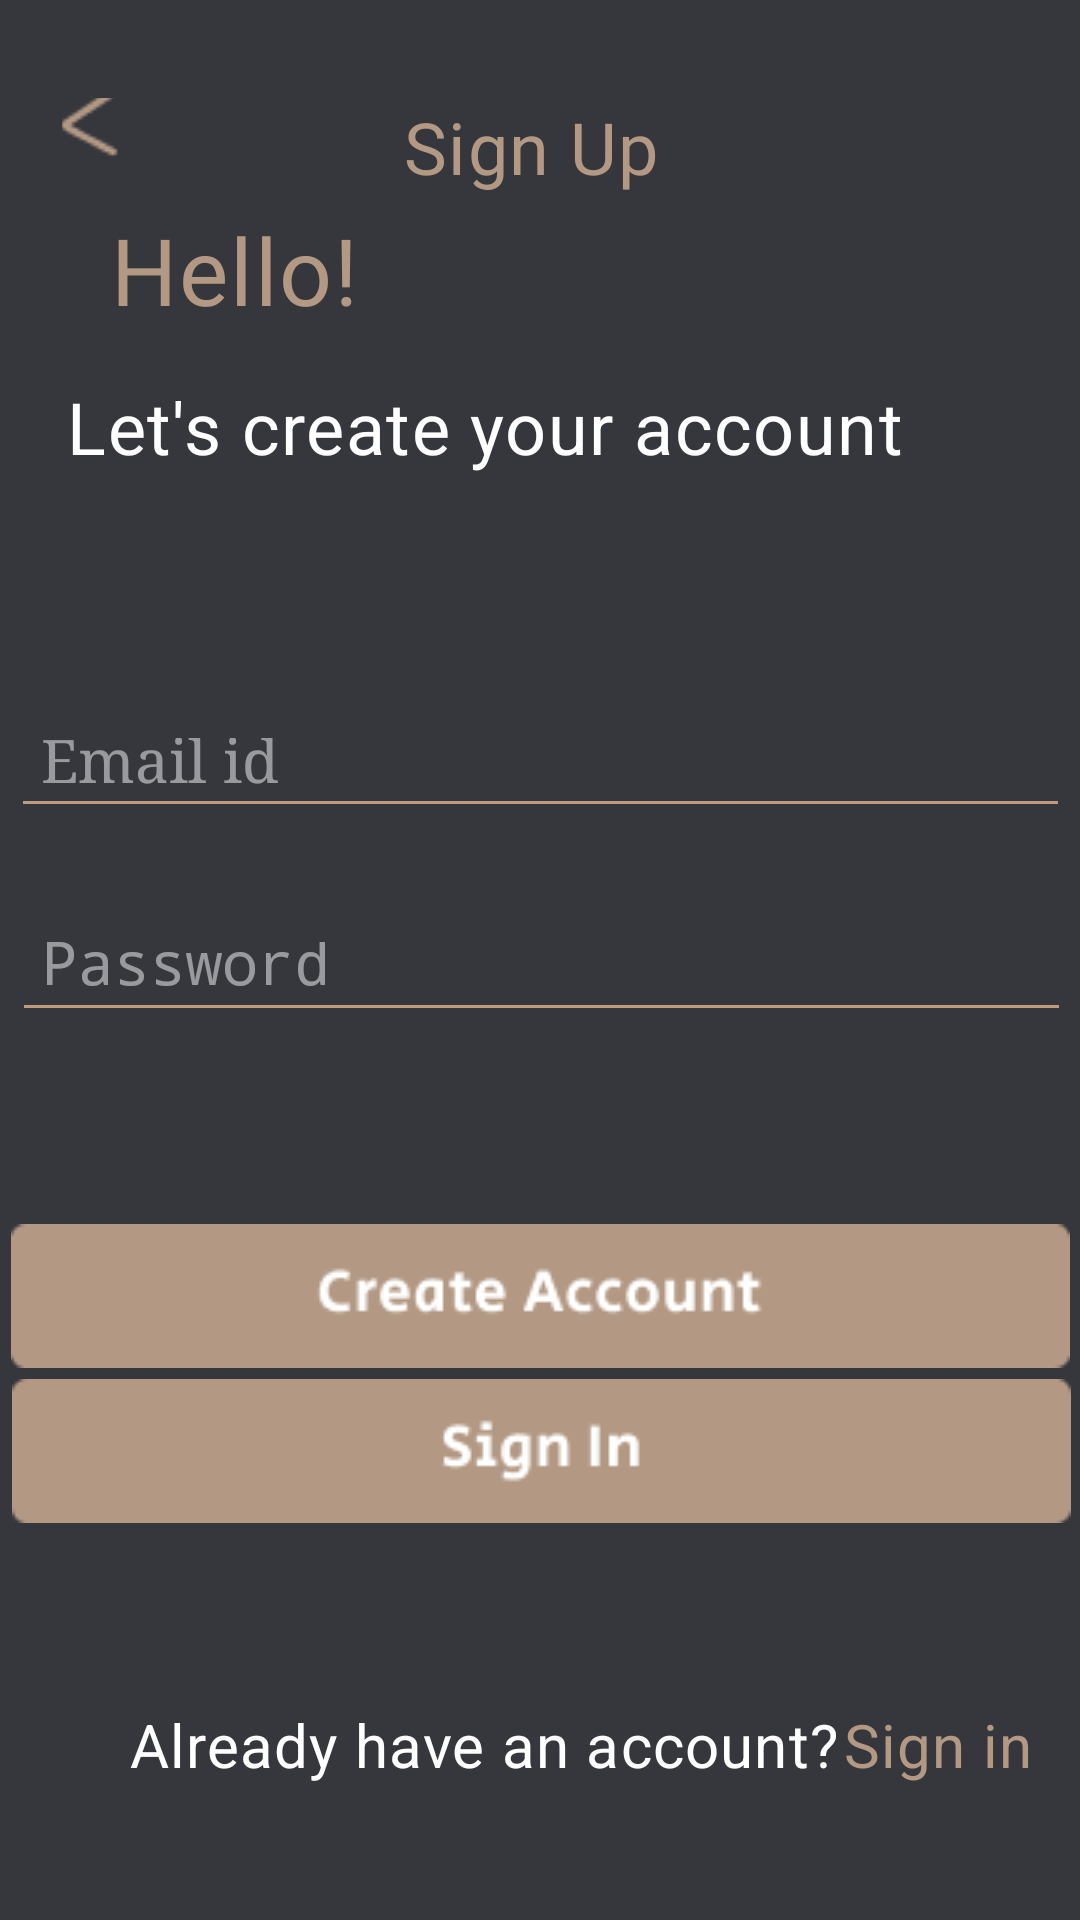

Point at icon controls on the screen. Image size 1080×1920, points as point (x, y).
backbutton: point (90, 127)
